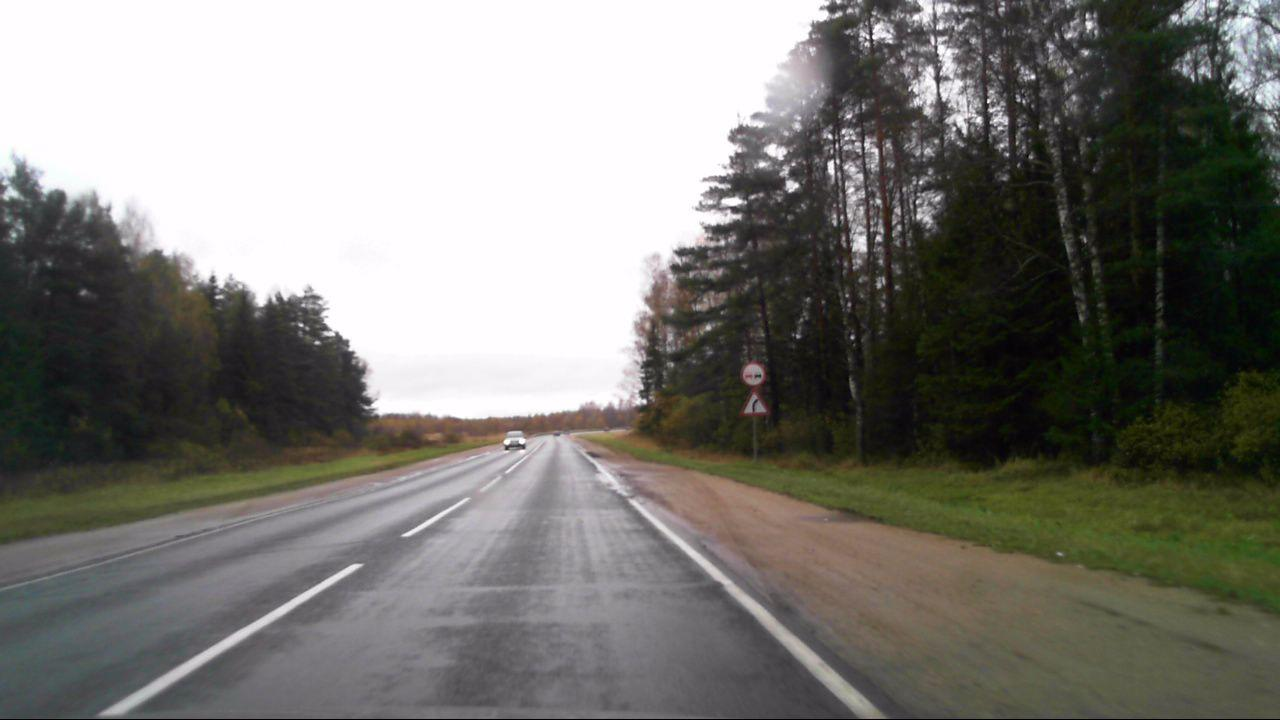1_11_1: (738, 389, 770, 415)
3_20: (740, 359, 768, 388)
